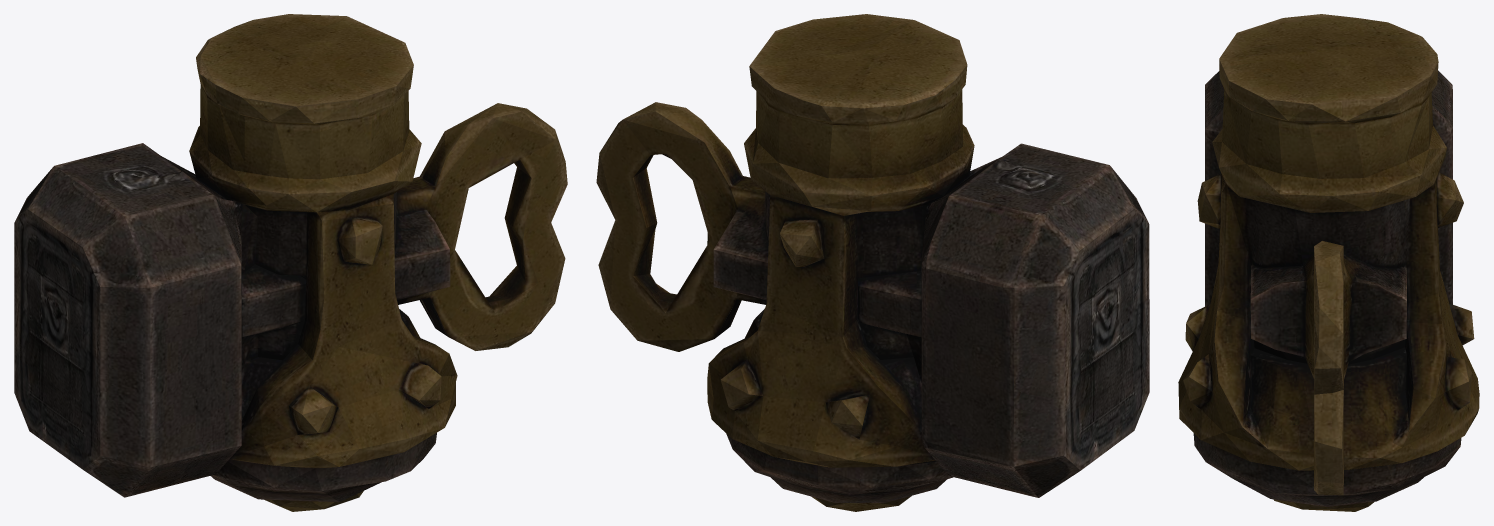
The picture shows the model from 3 angles, left to right: view 1: azimuth 30°, elevation 25°; view 2: azimuth 150°, elevation 25°; view 3: azimuth 270°, elevation 25°; orthographic projection.
Visible parts, largest first — view 1: geometry_0; view 2: geometry_0; view 3: geometry_0.
Boxes of the visible parts, x1,y1,x2,y2 form: geometry_0: (14, 14, 567, 511); geometry_0: (596, 14, 1149, 511); geometry_0: (1178, 14, 1479, 511).
Bounding box in the file's own units: 1 × 0.8417 × 0.512.
Materials: 1 (1 with a texture image).
